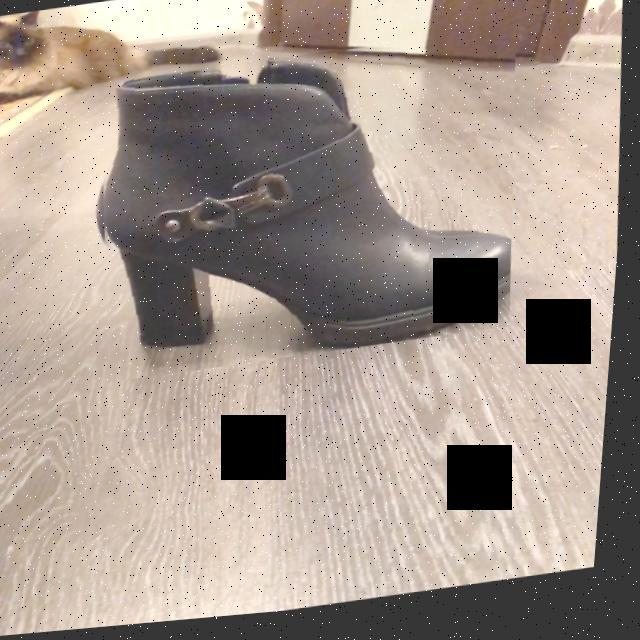shoe: (106, 69, 516, 358)
